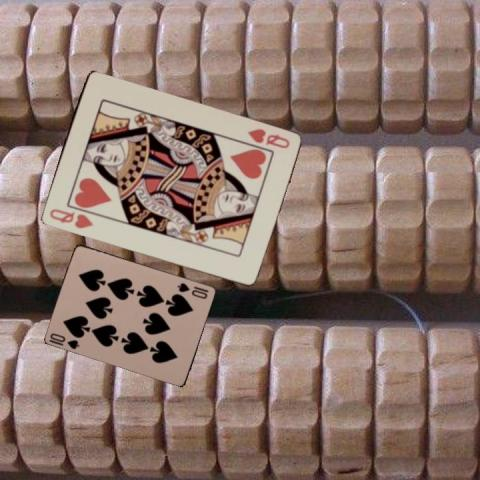10s: (175, 279, 209, 300), (48, 330, 82, 351)
Qh: (46, 205, 95, 230), (244, 125, 291, 150)
